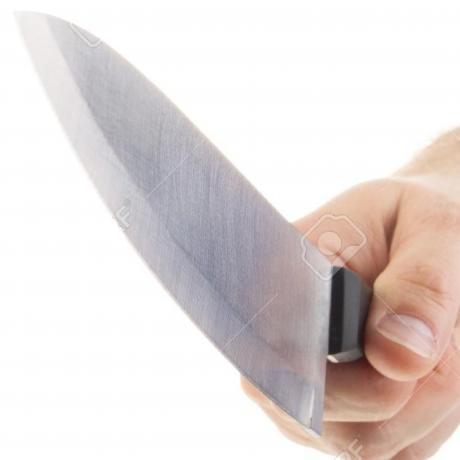1: (245, 120, 460, 460)
weapon: (9, 6, 370, 438)
